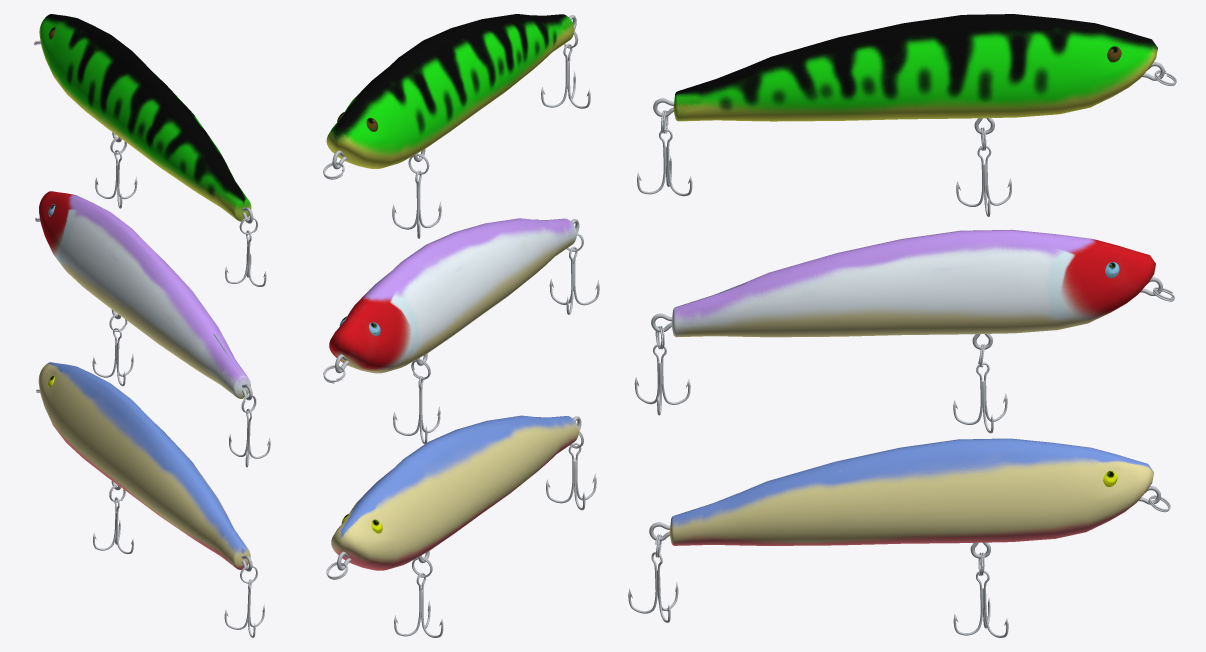
The model's file is lure_minnow.glb.
The picture shows the model from 3 angles, left to right: view 1: azimuth 30°, elevation 25°; view 2: azimuth 150°, elevation 25°; view 3: azimuth 270°, elevation 25°; orthographic projection. The views are drawn at different scales.
Parts seen in each view (by area): view 1: r1_03 - Default_0; view 2: r1_03 - Default_0; view 3: r1_03 - Default_0.
Part boxes in pixels (x1,y1,x2,y2): r1_03 - Default_0: (34, 14, 270, 637); r1_03 - Default_0: (323, 14, 599, 637); r1_03 - Default_0: (628, 14, 1176, 637).
Bounding box in the file's own units: 1.05 × 8.27 × 6.8.
Materials: 1 (1 with a texture image).
